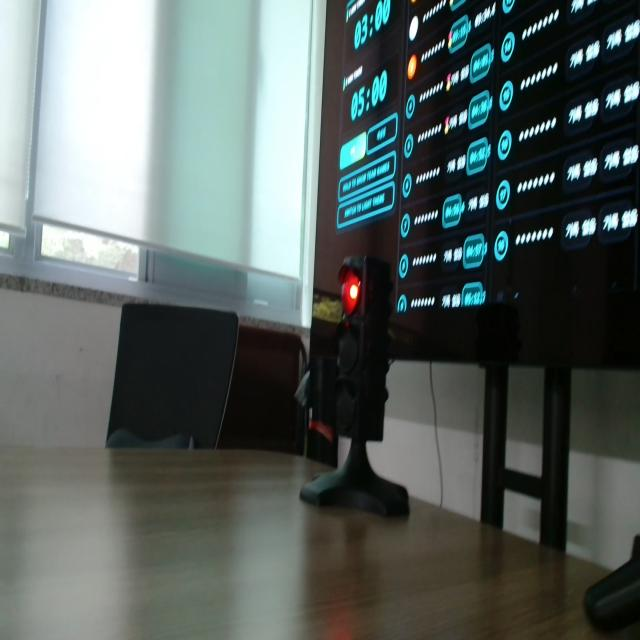red_light: (340, 270, 360, 315)
